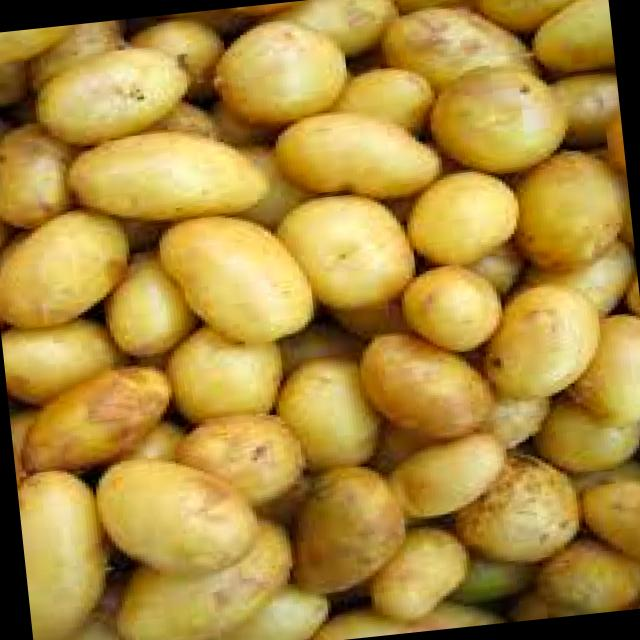Potato: (6, 352, 189, 502), (106, 498, 298, 640), (50, 116, 279, 234), (98, 436, 260, 596), (168, 192, 316, 363), (278, 458, 425, 620), (14, 459, 139, 640), (268, 88, 436, 218), (384, 144, 537, 284), (422, 38, 562, 190), (27, 34, 196, 154), (345, 321, 510, 439), (262, 344, 396, 483), (164, 402, 318, 522), (478, 271, 612, 407), (0, 205, 139, 336), (452, 450, 591, 570), (382, 0, 533, 110), (513, 140, 626, 284), (228, 3, 358, 128), (160, 326, 294, 446), (292, 193, 410, 319), (90, 243, 206, 371), (380, 426, 514, 536), (0, 304, 133, 409), (396, 248, 507, 364), (0, 110, 95, 237), (333, 57, 437, 145), (533, 392, 638, 478)
